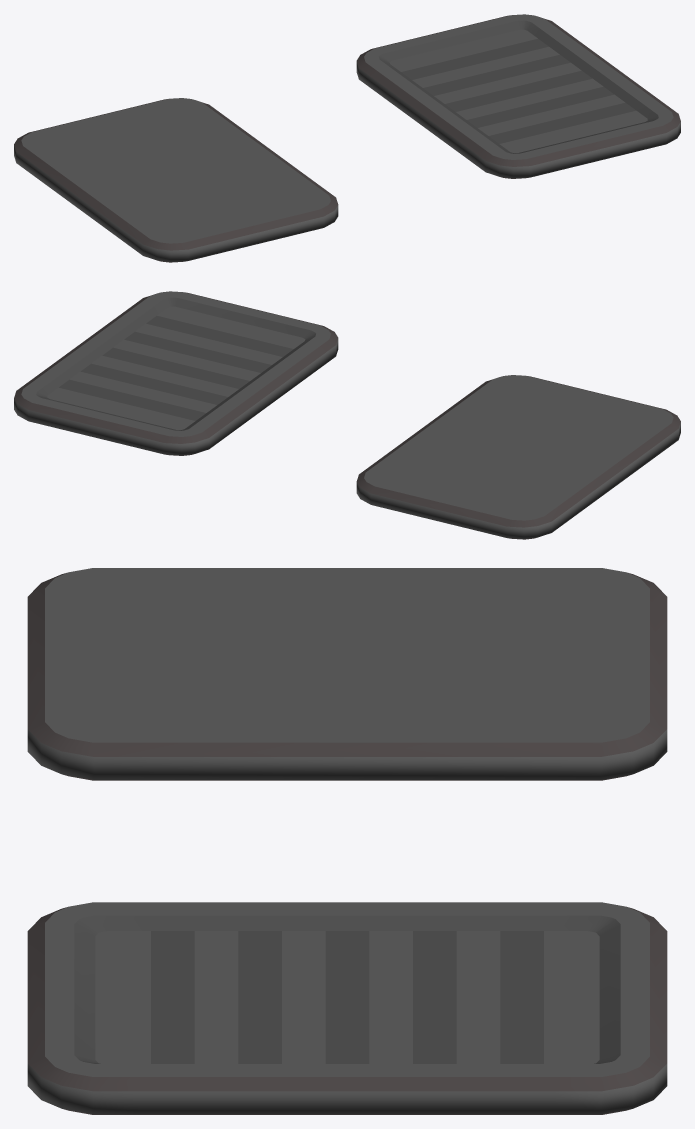
Rendered from SteelSheet.fbx.
3 renders of one model, top to bottom at view 1: azimuth 30°, elevation 25°; view 2: azimuth 150°, elevation 25°; view 3: azimuth 270°, elevation 25°, orthographic. The views are drawn at different scales.
Parts seen in each view (by area): view 1: SteelSheet, SteelSheetReinforced; view 2: SteelSheet, SteelSheetReinforced; view 3: SteelSheet, SteelSheetReinforced.
Boxes of the visible parts, bbox=[...] form: SteelSheet: bbox=[14, 98, 338, 262]; SteelSheetReinforced: bbox=[356, 14, 680, 178]; SteelSheet: bbox=[356, 375, 680, 539]; SteelSheetReinforced: bbox=[14, 291, 338, 455]; SteelSheet: bbox=[27, 568, 667, 780]; SteelSheetReinforced: bbox=[27, 902, 667, 1114].
Bounding box in the file's own units: 1.56 × 0.0529 × 0.808.
